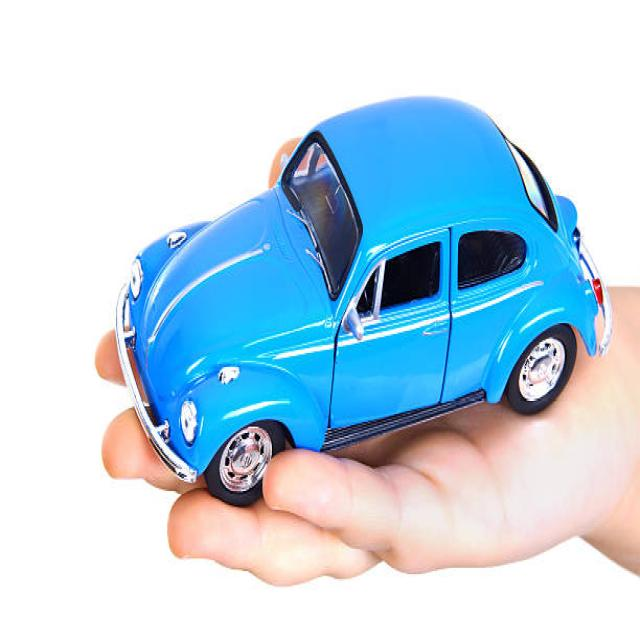Car: (114, 92, 613, 506)
